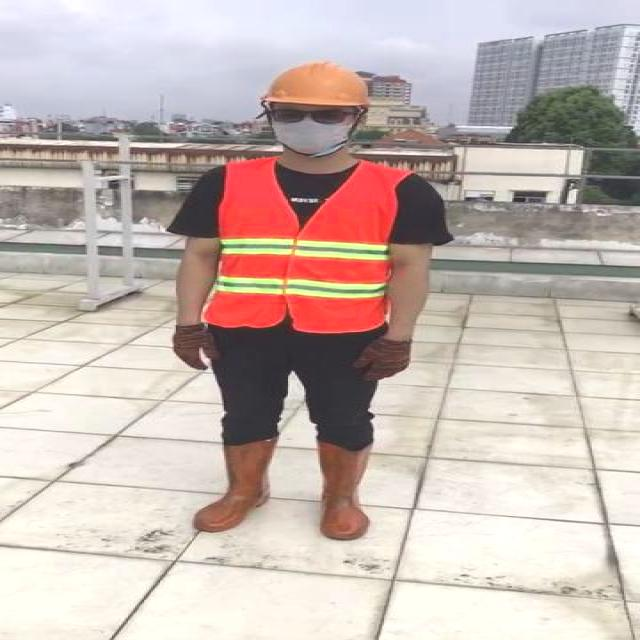boots: (190, 439, 279, 531), (315, 438, 375, 540)
face_mask: (268, 102, 354, 154)
glasses: (260, 105, 354, 128)
hand_glove: (352, 336, 411, 380), (170, 325, 220, 370)
head_helmet: (263, 62, 373, 108)
person: (152, 57, 447, 552)
vest: (201, 164, 403, 331)
